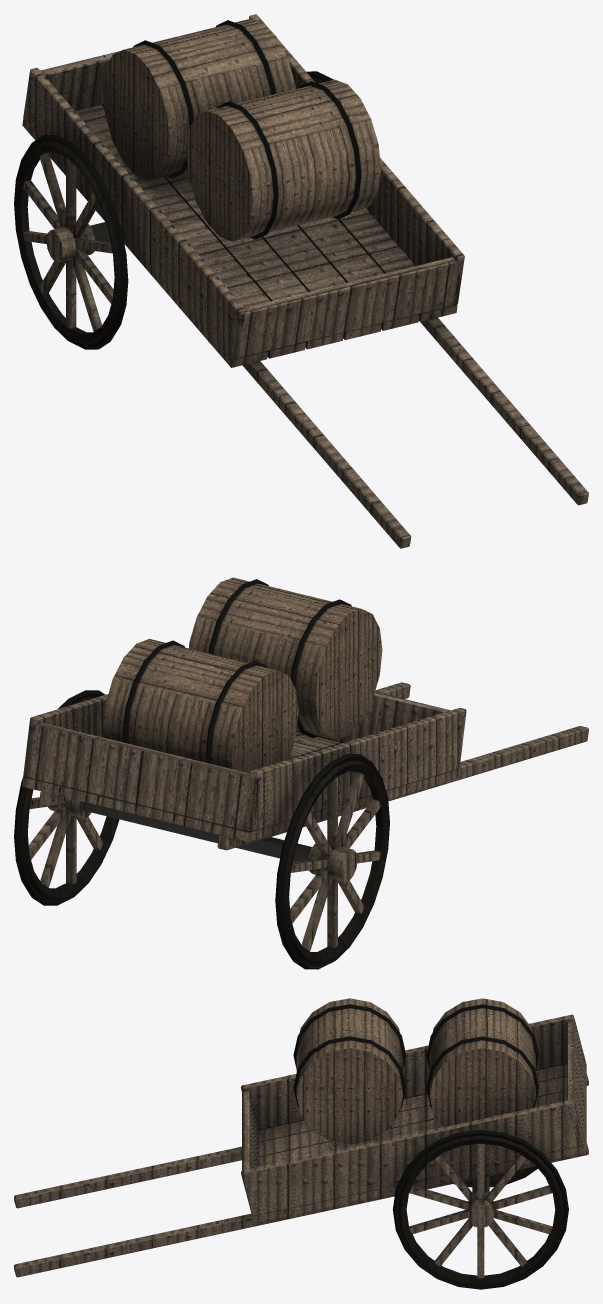
The model's file is hand_cart_barrels.glb.
3 views of the same model, one above another, from view 1: azimuth 30°, elevation 25°; view 2: azimuth 150°, elevation 25°; view 3: azimuth 270°, elevation 25° (orthographic). The views are drawn at different scales.
Parts seen in each view (by area): view 1: hand_cart_barrels; view 2: hand_cart_barrels; view 3: hand_cart_barrels.
Boxes of the visible parts, left/top/right/bottom form: hand_cart_barrels: left=14, top=14, right=588, bottom=548; hand_cart_barrels: left=14, top=577, right=588, bottom=969; hand_cart_barrels: left=14, top=998, right=588, bottom=1289.
Bounding box in the file's own units: 1.42 × 1.28 × 3.03.
Materials: 1 (1 with a texture image).
